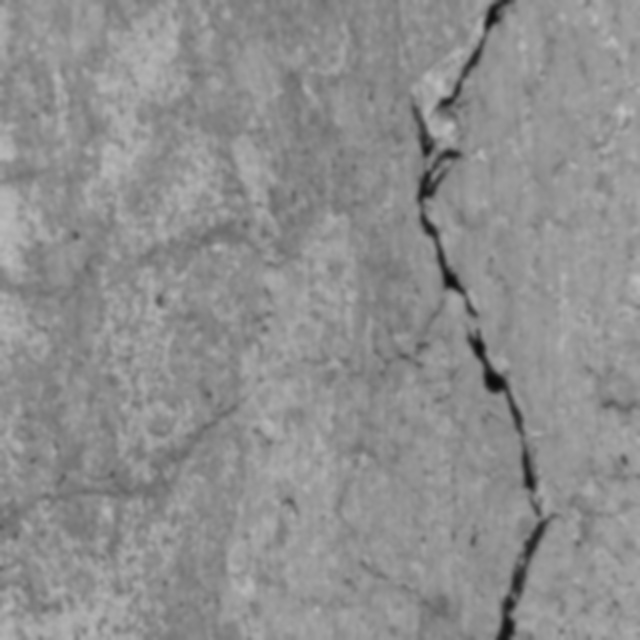SurfaceCrack: (378, 0, 580, 640)
